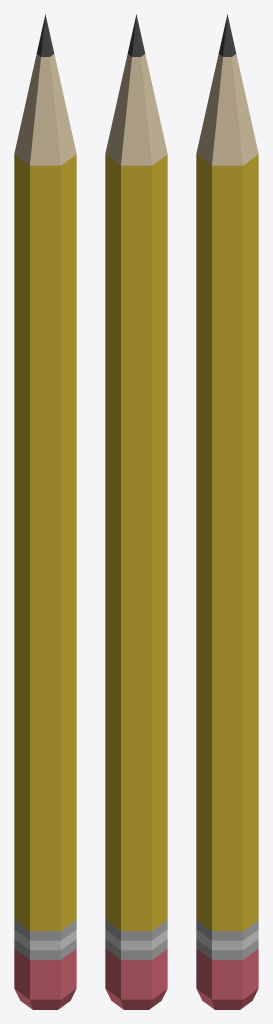
Rendered from Pencil_Long.fbx.
3 views of the same model, side by side, from view 1: azimuth 30°, elevation 25°; view 2: azimuth 210°, elevation 25°; view 3: azimuth 270°, elevation 25° (orthographic).
Visible parts, largest first — view 1: Pencil; view 2: Pencil; view 3: Pencil.
Boxes of the visible parts, x1,y1,x2,y2 form: Pencil: (14,14,76,1009); Pencil: (105,14,167,1009); Pencil: (196,14,258,1009).
Bounding box in the file's own units: 4.9 × 98.67 × 5.66.
